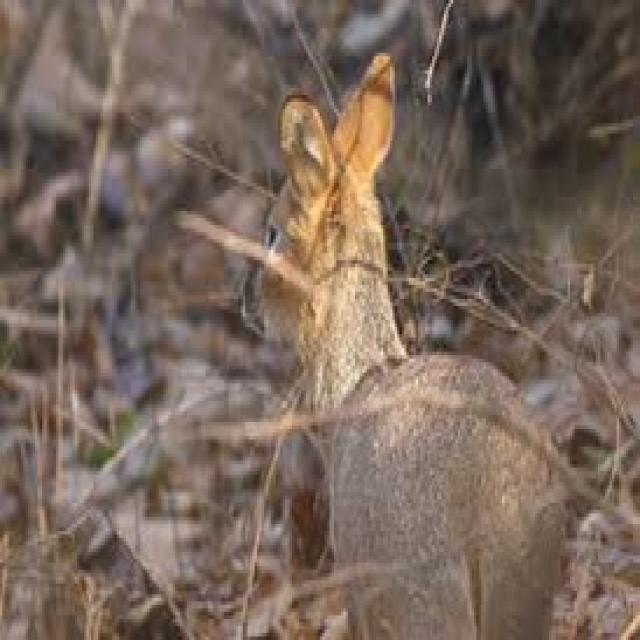elk: (242, 46, 610, 625)
